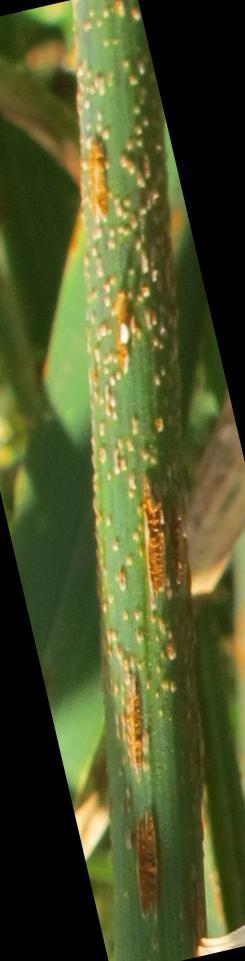Wheat: (76, 32, 185, 433), (95, 439, 179, 947)
